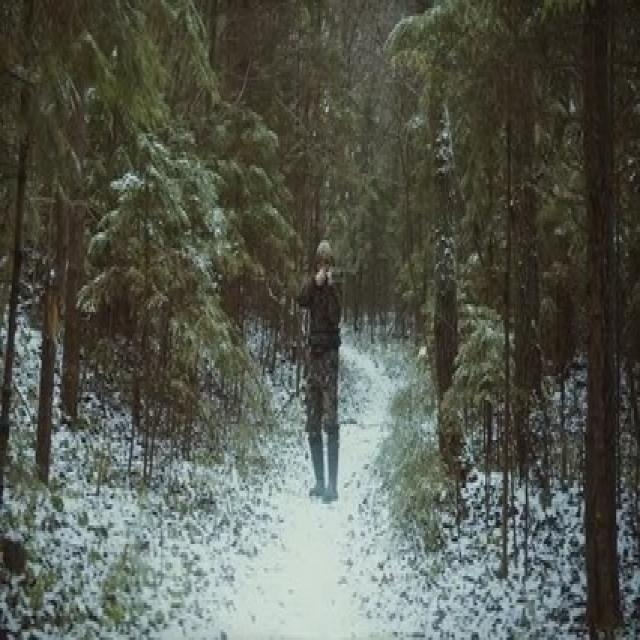Gun_Holder: (315, 265, 367, 285)
Person: (298, 243, 344, 497)
